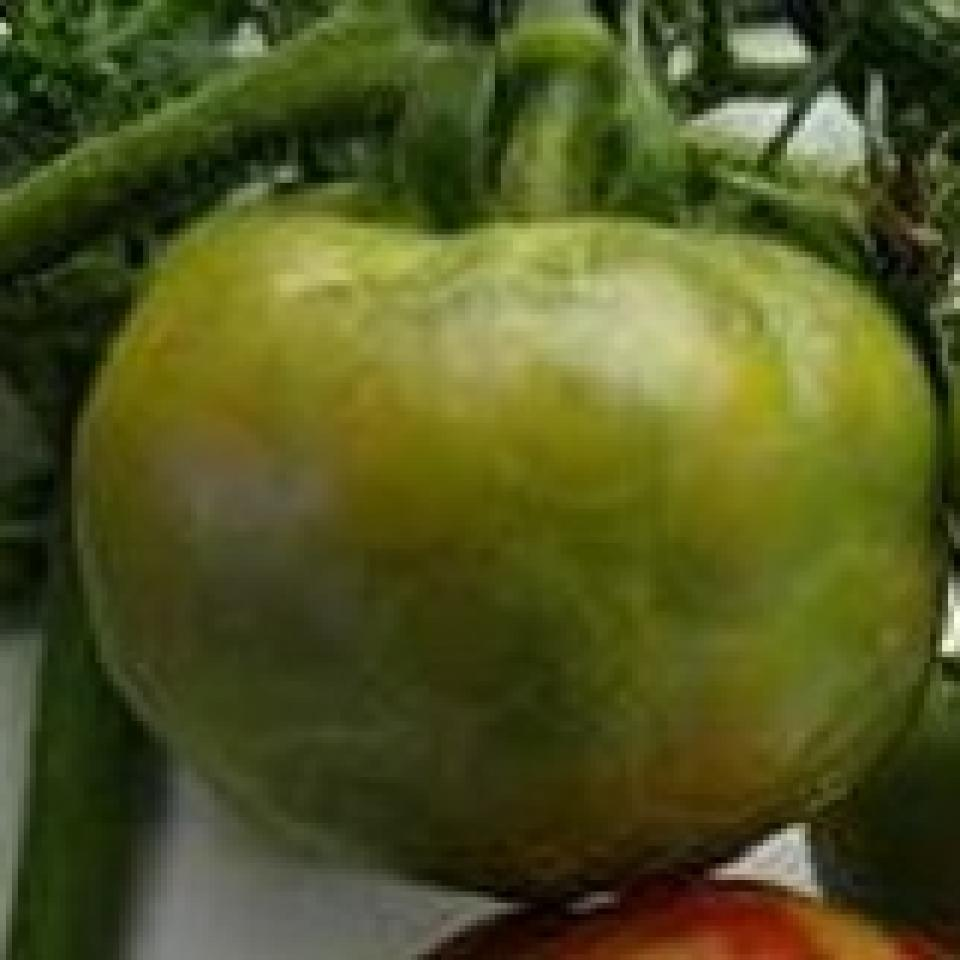Spotted wilt Virus: (72, 206, 948, 909)
